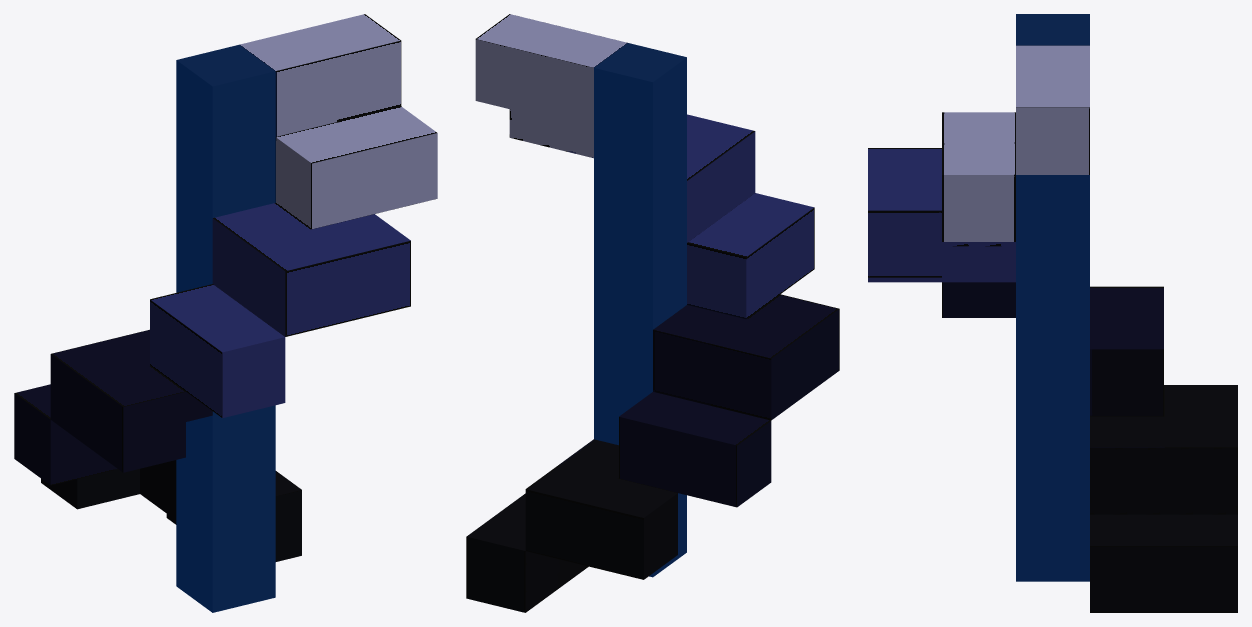
3 views of the same model, side by side, from view 1: azimuth 30°, elevation 25°; view 2: azimuth 150°, elevation 25°; view 3: azimuth 270°, elevation 25° (orthographic). The views are drawn at different scales.
Visible parts, largest first — view 1: stairs2.vox; view 2: stairs2.vox; view 3: stairs2.vox.
Boxes of the visible parts, x1,y1,x2,y2 form: stairs2.vox: (14, 14, 437, 612); stairs2.vox: (466, 14, 839, 612); stairs2.vox: (868, 14, 1237, 612).
Bounding box in the file's own units: 0.5 × 0.8 × 0.5.
Materials: 2 (1 with a texture image).
